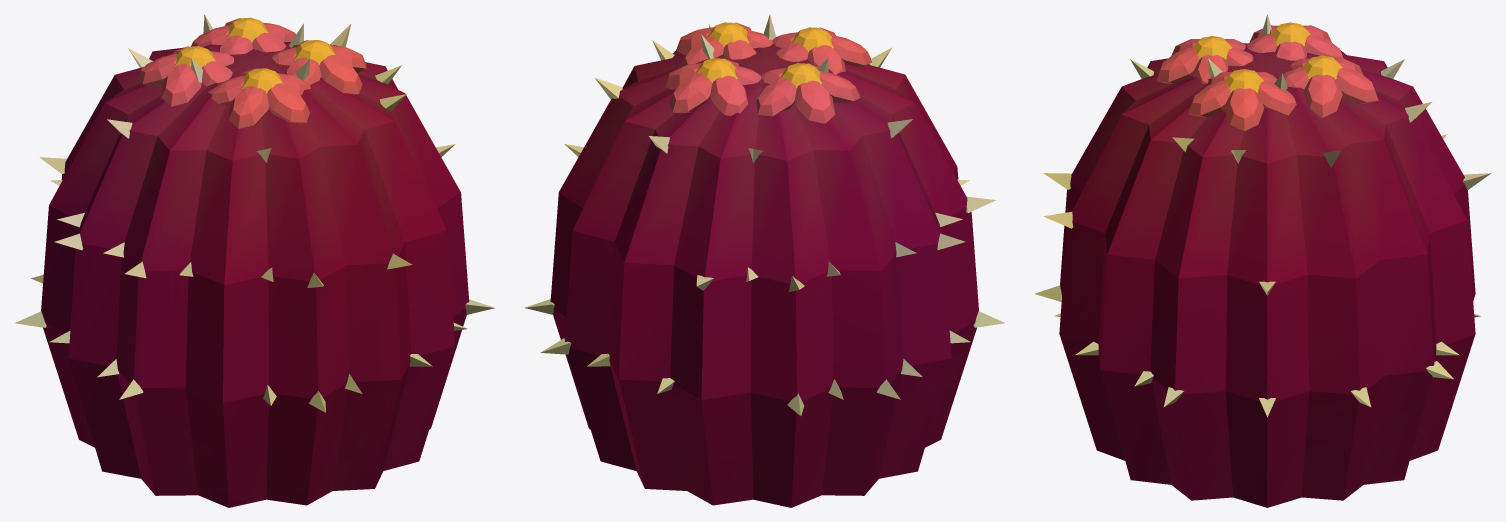
The model's file is Cactus_Barrel_01.glb.
The picture shows the model from 3 angles, left to right: view 1: azimuth 30°, elevation 25°; view 2: azimuth 150°, elevation 25°; view 3: azimuth 270°, elevation 25°; orthographic projection.
Parts seen in each view (by area): view 1: Cactus_Barrel_01; view 2: Cactus_Barrel_01; view 3: Cactus_Barrel_01.
Part boxes in pixels (x1,y1,x2,y2): Cactus_Barrel_01: (15, 14, 494, 507); Cactus_Barrel_01: (524, 15, 1005, 507); Cactus_Barrel_01: (1034, 14, 1491, 507).
Bounding box in the file's own units: 0.792 × 0.7238 × 0.7721.
